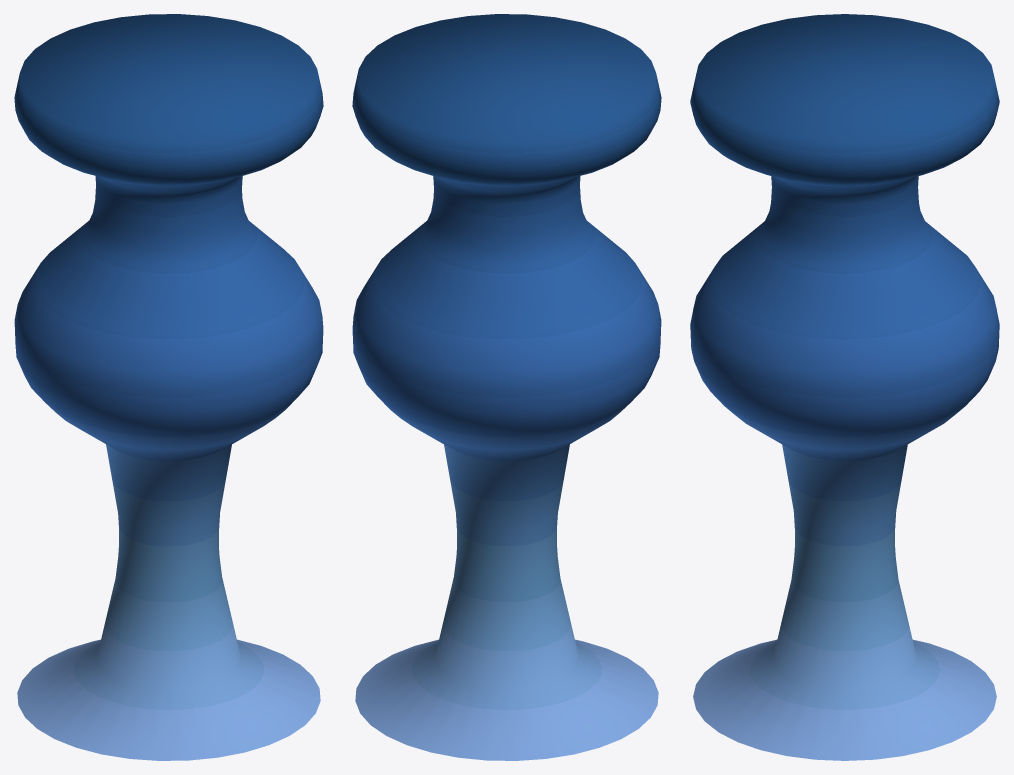
Rendered from vase2.fbx.
The picture shows the model from 3 angles, left to right: view 1: azimuth 30°, elevation 25°; view 2: azimuth 150°, elevation 25°; view 3: azimuth 270°, elevation 25°; orthographic projection.
Parts seen in each view (by area): view 1: vase2; view 2: vase2; view 3: vase2.
Boxes of the visible parts, x1=… form: vase2: x1=14, y1=14, x2=323, y2=760; vase2: x1=352, y1=14, x2=661, y2=760; vase2: x1=690, y1=14, x2=999, y2=760.
Bounding box in the file's own units: 13.06 × 28.9 × 13.06.
